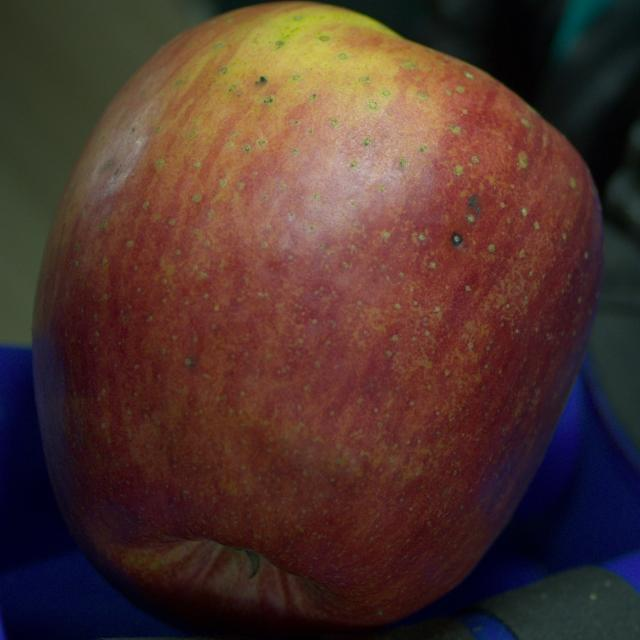apple: (32, 1, 602, 637)
pest: (451, 232, 462, 246), (256, 77, 267, 85)
